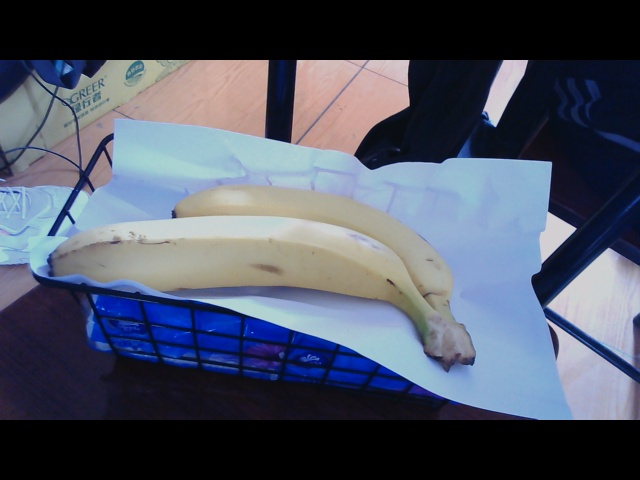banana: (62, 162, 476, 368)
